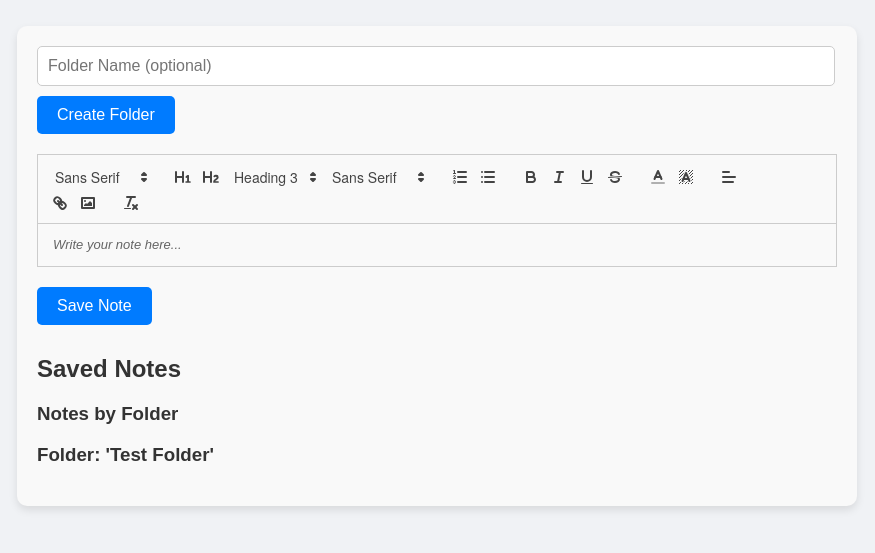
TextEditor Component › displays error when trying to save an empty note
The width and height of the screenshot is (875, 553).
Try to save an empty note
Click the button "Save Note".
click(94, 306)  # box [37,287,152,325]
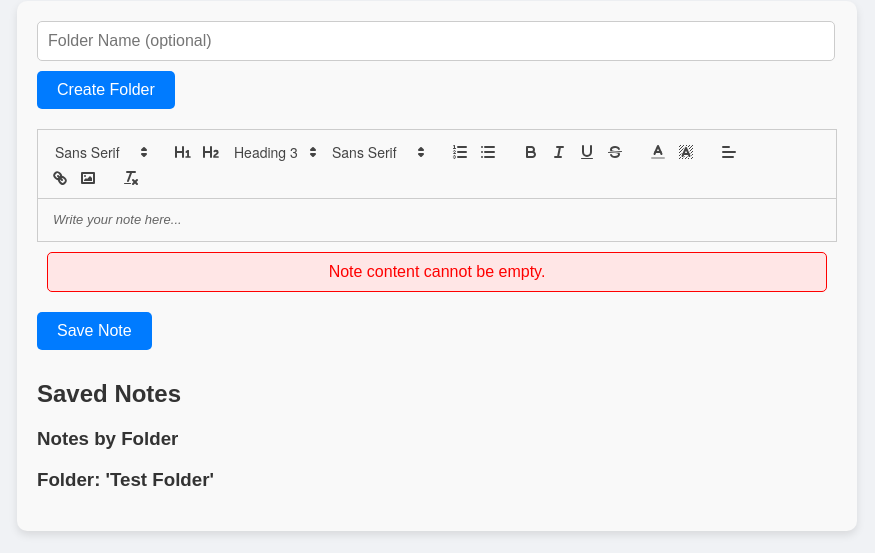
Result: the text "Note content cannot be empty." is shown at [47,252,827,292]
